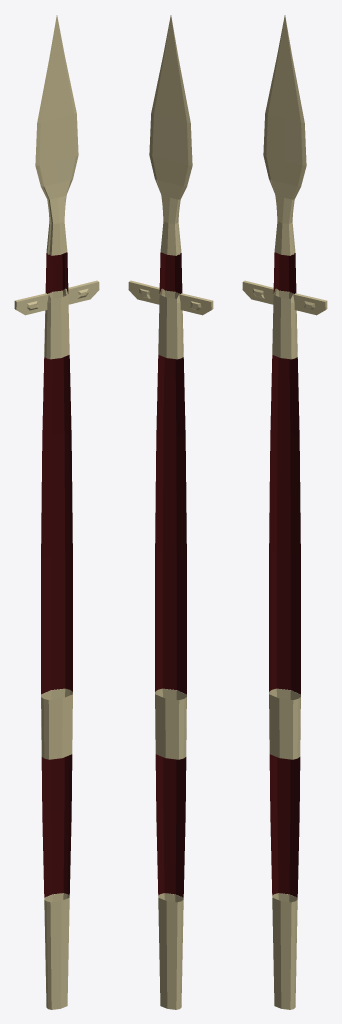
File: WingedSpear.fbx
The picture shows the model from 3 angles, left to right: view 1: azimuth 30°, elevation 25°; view 2: azimuth 150°, elevation 25°; view 3: azimuth 330°, elevation 25°; orthographic projection.
Visible parts, largest first — view 1: Cube, Cube.001; view 2: Cube, Cube.001; view 3: Cube, Cube.001.
Part boxes in pixels (x1,y1,x2,y2): Cube: [41, 252, 72, 897]; Cube.001: [14, 15, 99, 1009]; Cube: [155, 252, 186, 897]; Cube.001: [128, 15, 213, 1009]; Cube: [269, 252, 300, 897]; Cube.001: [242, 15, 327, 1009].
Size of the model in its own units: 614 by 7004 by 147.
